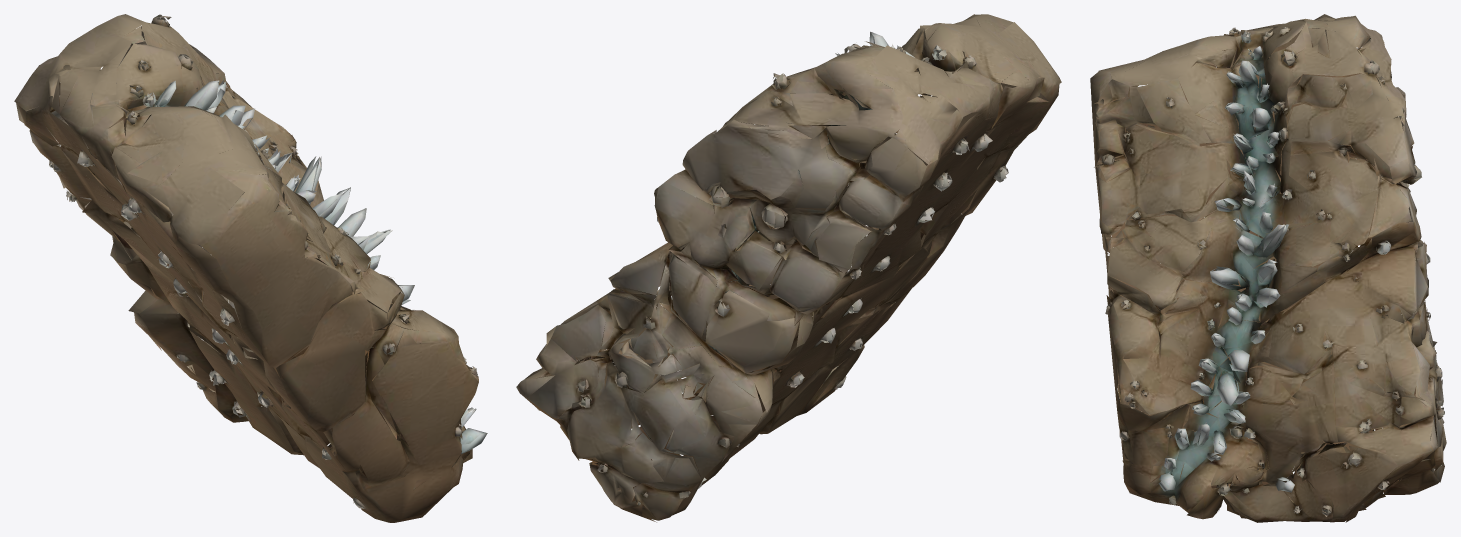
File: cav_resonant_crystal_vein_b_LOD1.glb
3 views of the same model, side by side, from view 1: azimuth 30°, elevation 25°; view 2: azimuth 150°, elevation 25°; view 3: azimuth 270°, elevation 25° (orthographic). The views are drawn at different scales.
Visible parts, largest first — view 1: tripo_node_27db1e25-f410-47bb-be75-9db522baf686; view 2: tripo_node_27db1e25-f410-47bb-be75-9db522baf686; view 3: tripo_node_27db1e25-f410-47bb-be75-9db522baf686.
Boxes of the visible parts, bbox=[...] form: tripo_node_27db1e25-f410-47bb-be75-9db522baf686: bbox=[14, 14, 487, 522]; tripo_node_27db1e25-f410-47bb-be75-9db522baf686: bbox=[516, 14, 1061, 522]; tripo_node_27db1e25-f410-47bb-be75-9db522baf686: bbox=[1090, 14, 1446, 522].
Bounding box in the file's own units: 0.8767 × 0.9999 × 0.8027.
Materials: 1 (1 with a texture image).
